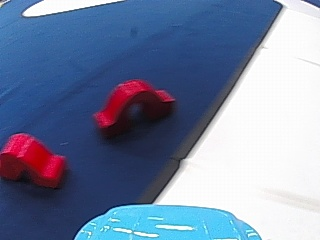bridge: (88, 76, 177, 138), (1, 131, 70, 189)
